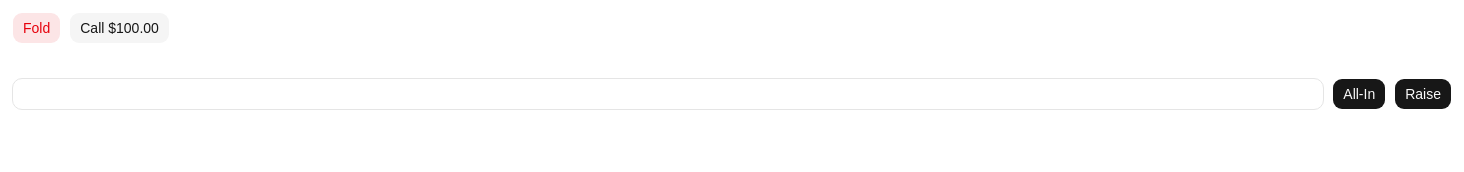
Scenario: ActionControls › rejects a raise amount below the minimum legal raise, client-side
The width and height of the screenshot is (1464, 172).
Replace the text in the number field labelled "Raise To:" with "150" at (668, 94), box [12,78,1324,110]
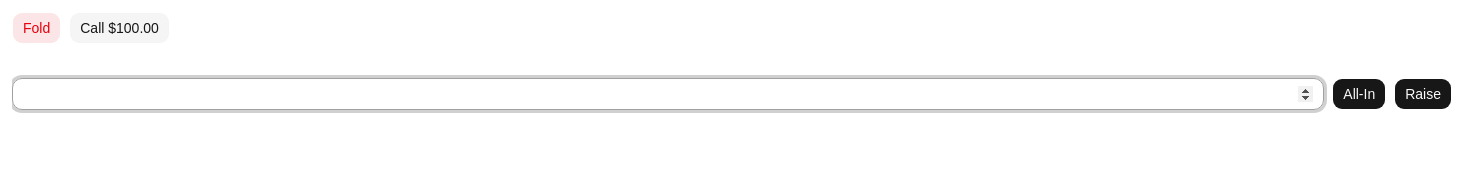
Click the button "Raise" at (1423, 94), box [1394,78,1452,110]
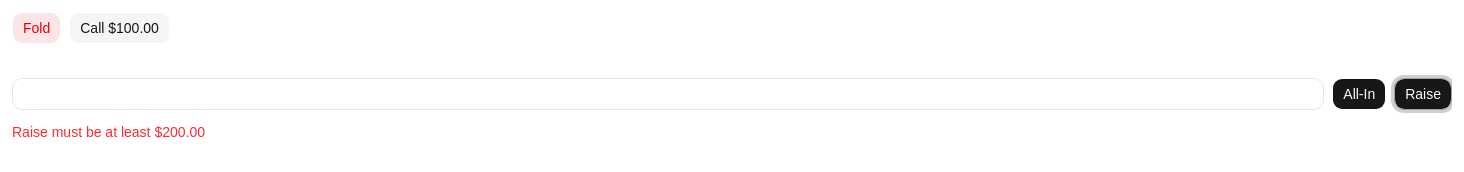
Expected: the text "Raise must be at least $200.00" is shown, [12,124,205,140]
